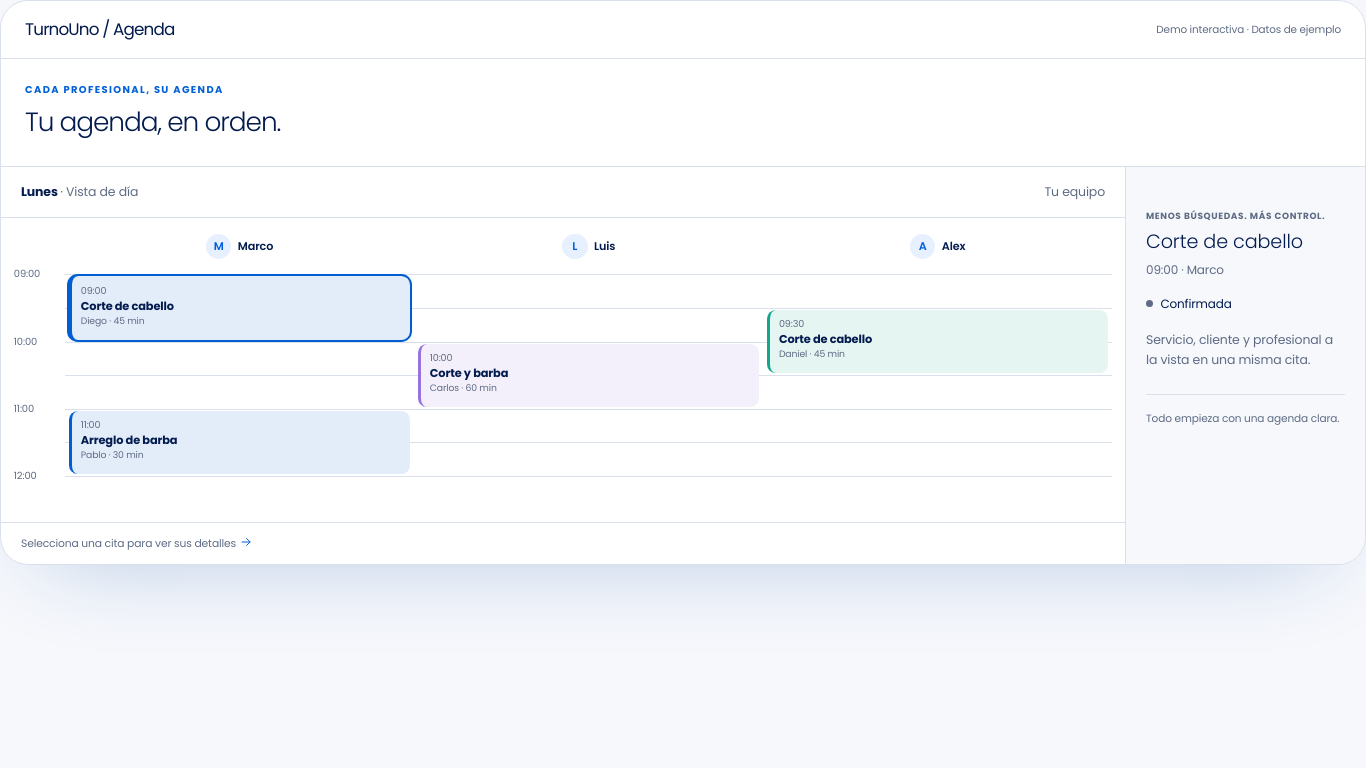
Test case: demo de agenda › con modo citas queda fija en la agenda por profesional
The image size is (1366, 768).
Expected: the elements with class "demo-persona" read "MMarco", "LLuis", "AAlex", in this order, 206,234 -> 273,259; 562,234 -> 615,259; 910,234 -> 965,259
Expected: the heading "Corte de cabello" is shown, 1146,228 -> 1303,255
Click the button with class "demo-evento" that starts with "Corte y barba" at coordinates (469, 373), box 418,344 -> 759,407
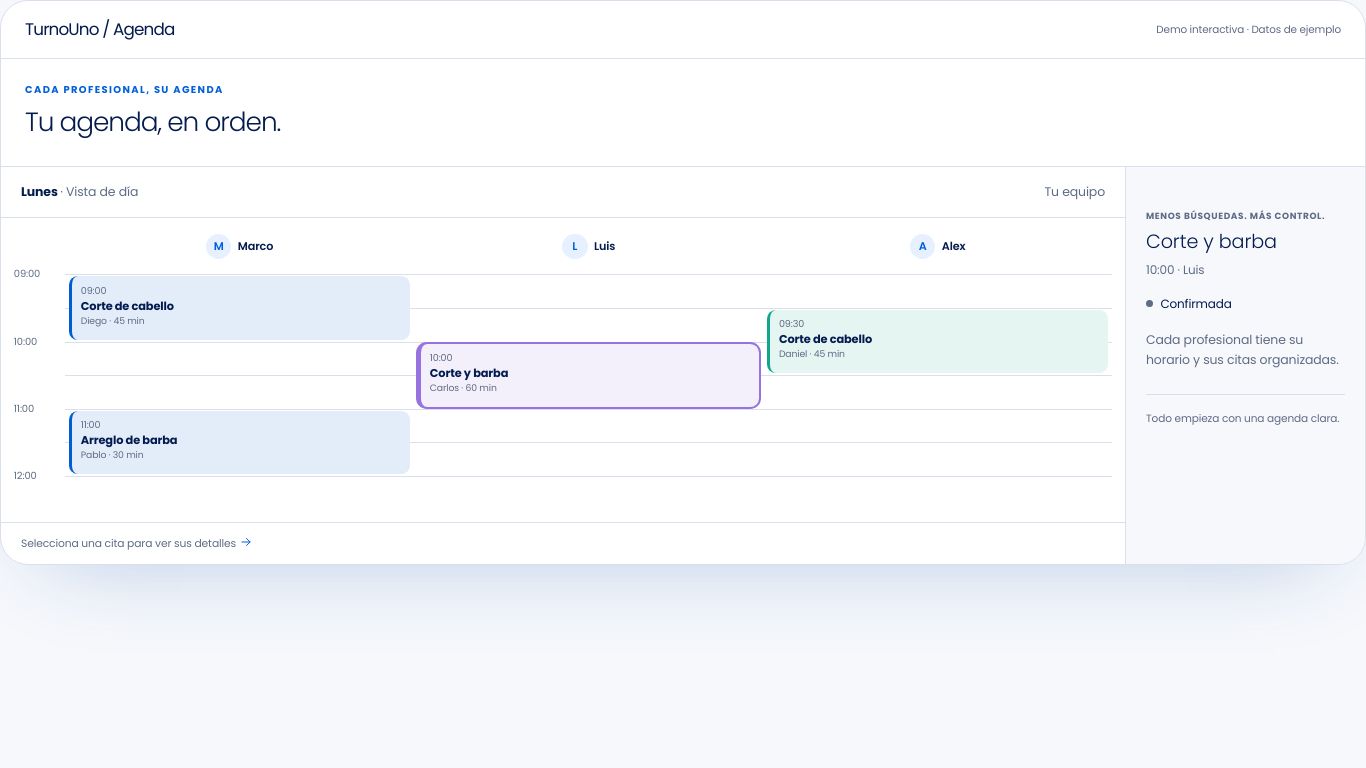
Expected: the text with class "demo-profesional" reads "10:00 · Luis", 1146,261 -> 1204,278
